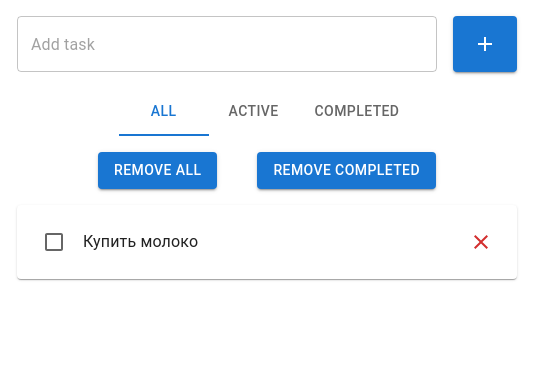
it: Удаление задачи
In the field with placeholder "Add task": (227, 44) [17, 16, 437, 72], type "Купить хлеб"
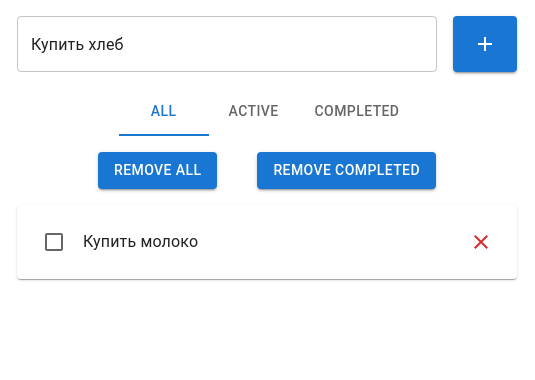
Click the button named "добавить": (485, 44) [453, 16, 517, 72]
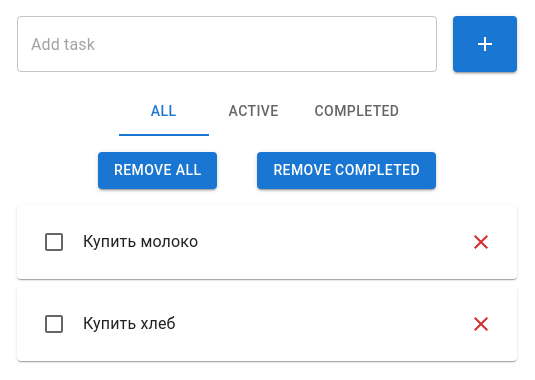
Expected: the text "Купить хлеб" is shown, [83, 312, 176, 336]
Click the button named "Удалить задачу" in the row of "Купить хлеб": (481, 324) [461, 304, 501, 344]
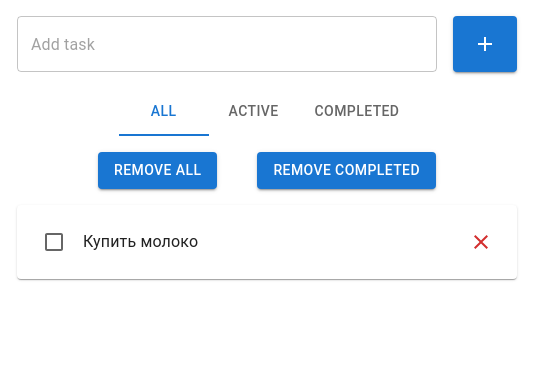
Expected: the text "Купить хлеб" is gone
